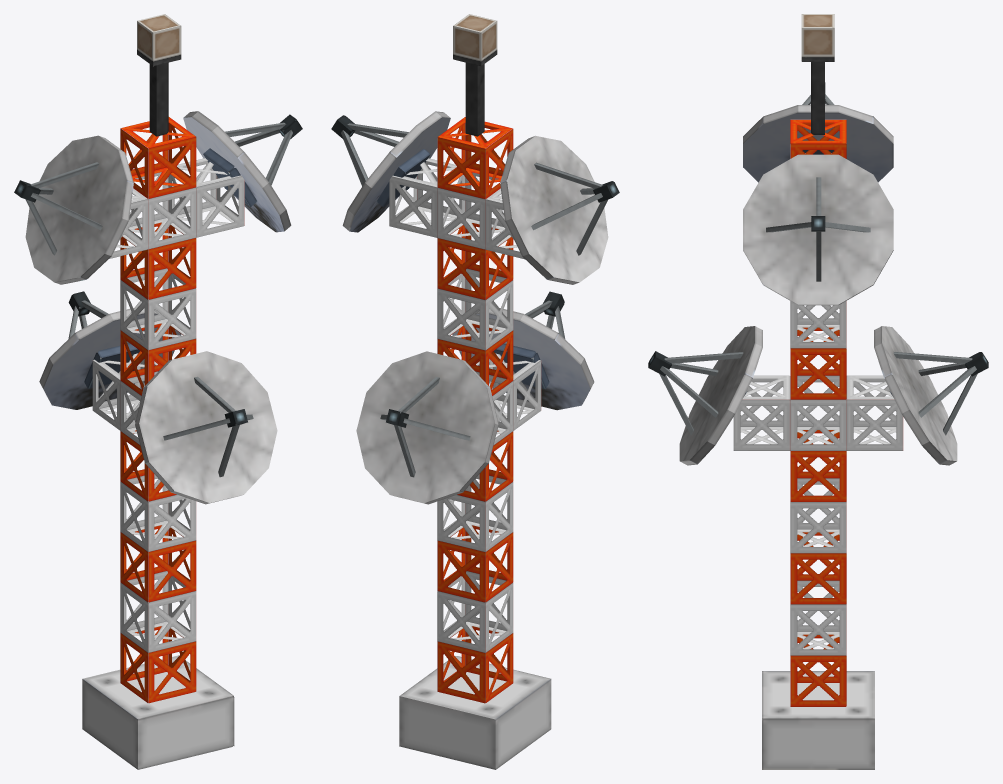
File: mast.obj
3 renders of one model, left to right at view 1: azimuth 30°, elevation 25°; view 2: azimuth 150°, elevation 25°; view 3: azimuth 270°, elevation 25°, orthographic.
Parts seen in each view (by area): view 1: concentrator, mast_white, mast_red, base, arm, beacon, declination, beacon_leg, feed; view 2: concentrator, mast_white, mast_red, base, arm, beacon, declination, beacon_leg, feed; view 3: concentrator, mast_white, mast_red, base, arm, beacon, beacon_leg, feed.
Boxes of the visible parts, x1,y1,x2,y2 form: concentrator: (25, 111, 291, 504); mast_white: (92, 158, 244, 652); mast_red: (120, 117, 196, 703); base: (82, 655, 234, 769); arm: (25, 122, 292, 477); beacon: (137, 14, 181, 66); declination: (84, 148, 257, 388); beacon_leg: (149, 62, 168, 136); feed: (14, 114, 302, 427); concentrator: (342, 111, 608, 504); mast_white: (389, 158, 541, 652); mast_red: (437, 117, 513, 703); base: (399, 656, 551, 769); arm: (341, 123, 607, 477); beacon: (453, 14, 497, 66); declination: (376, 149, 549, 389); beacon_leg: (465, 62, 484, 136); feed: (331, 115, 619, 427); concentrator: (679, 105, 957, 465); mast_white: (733, 153, 903, 655); mast_red: (790, 119, 846, 706); base: (762, 671, 874, 769); arm: (659, 94, 977, 435); beacon: (801, 14, 834, 61); beacon_leg: (811, 62, 824, 134); feed: (648, 82, 988, 376).
Bounding box in the file's own units: 4.39 × 10.62 × 4.51.
